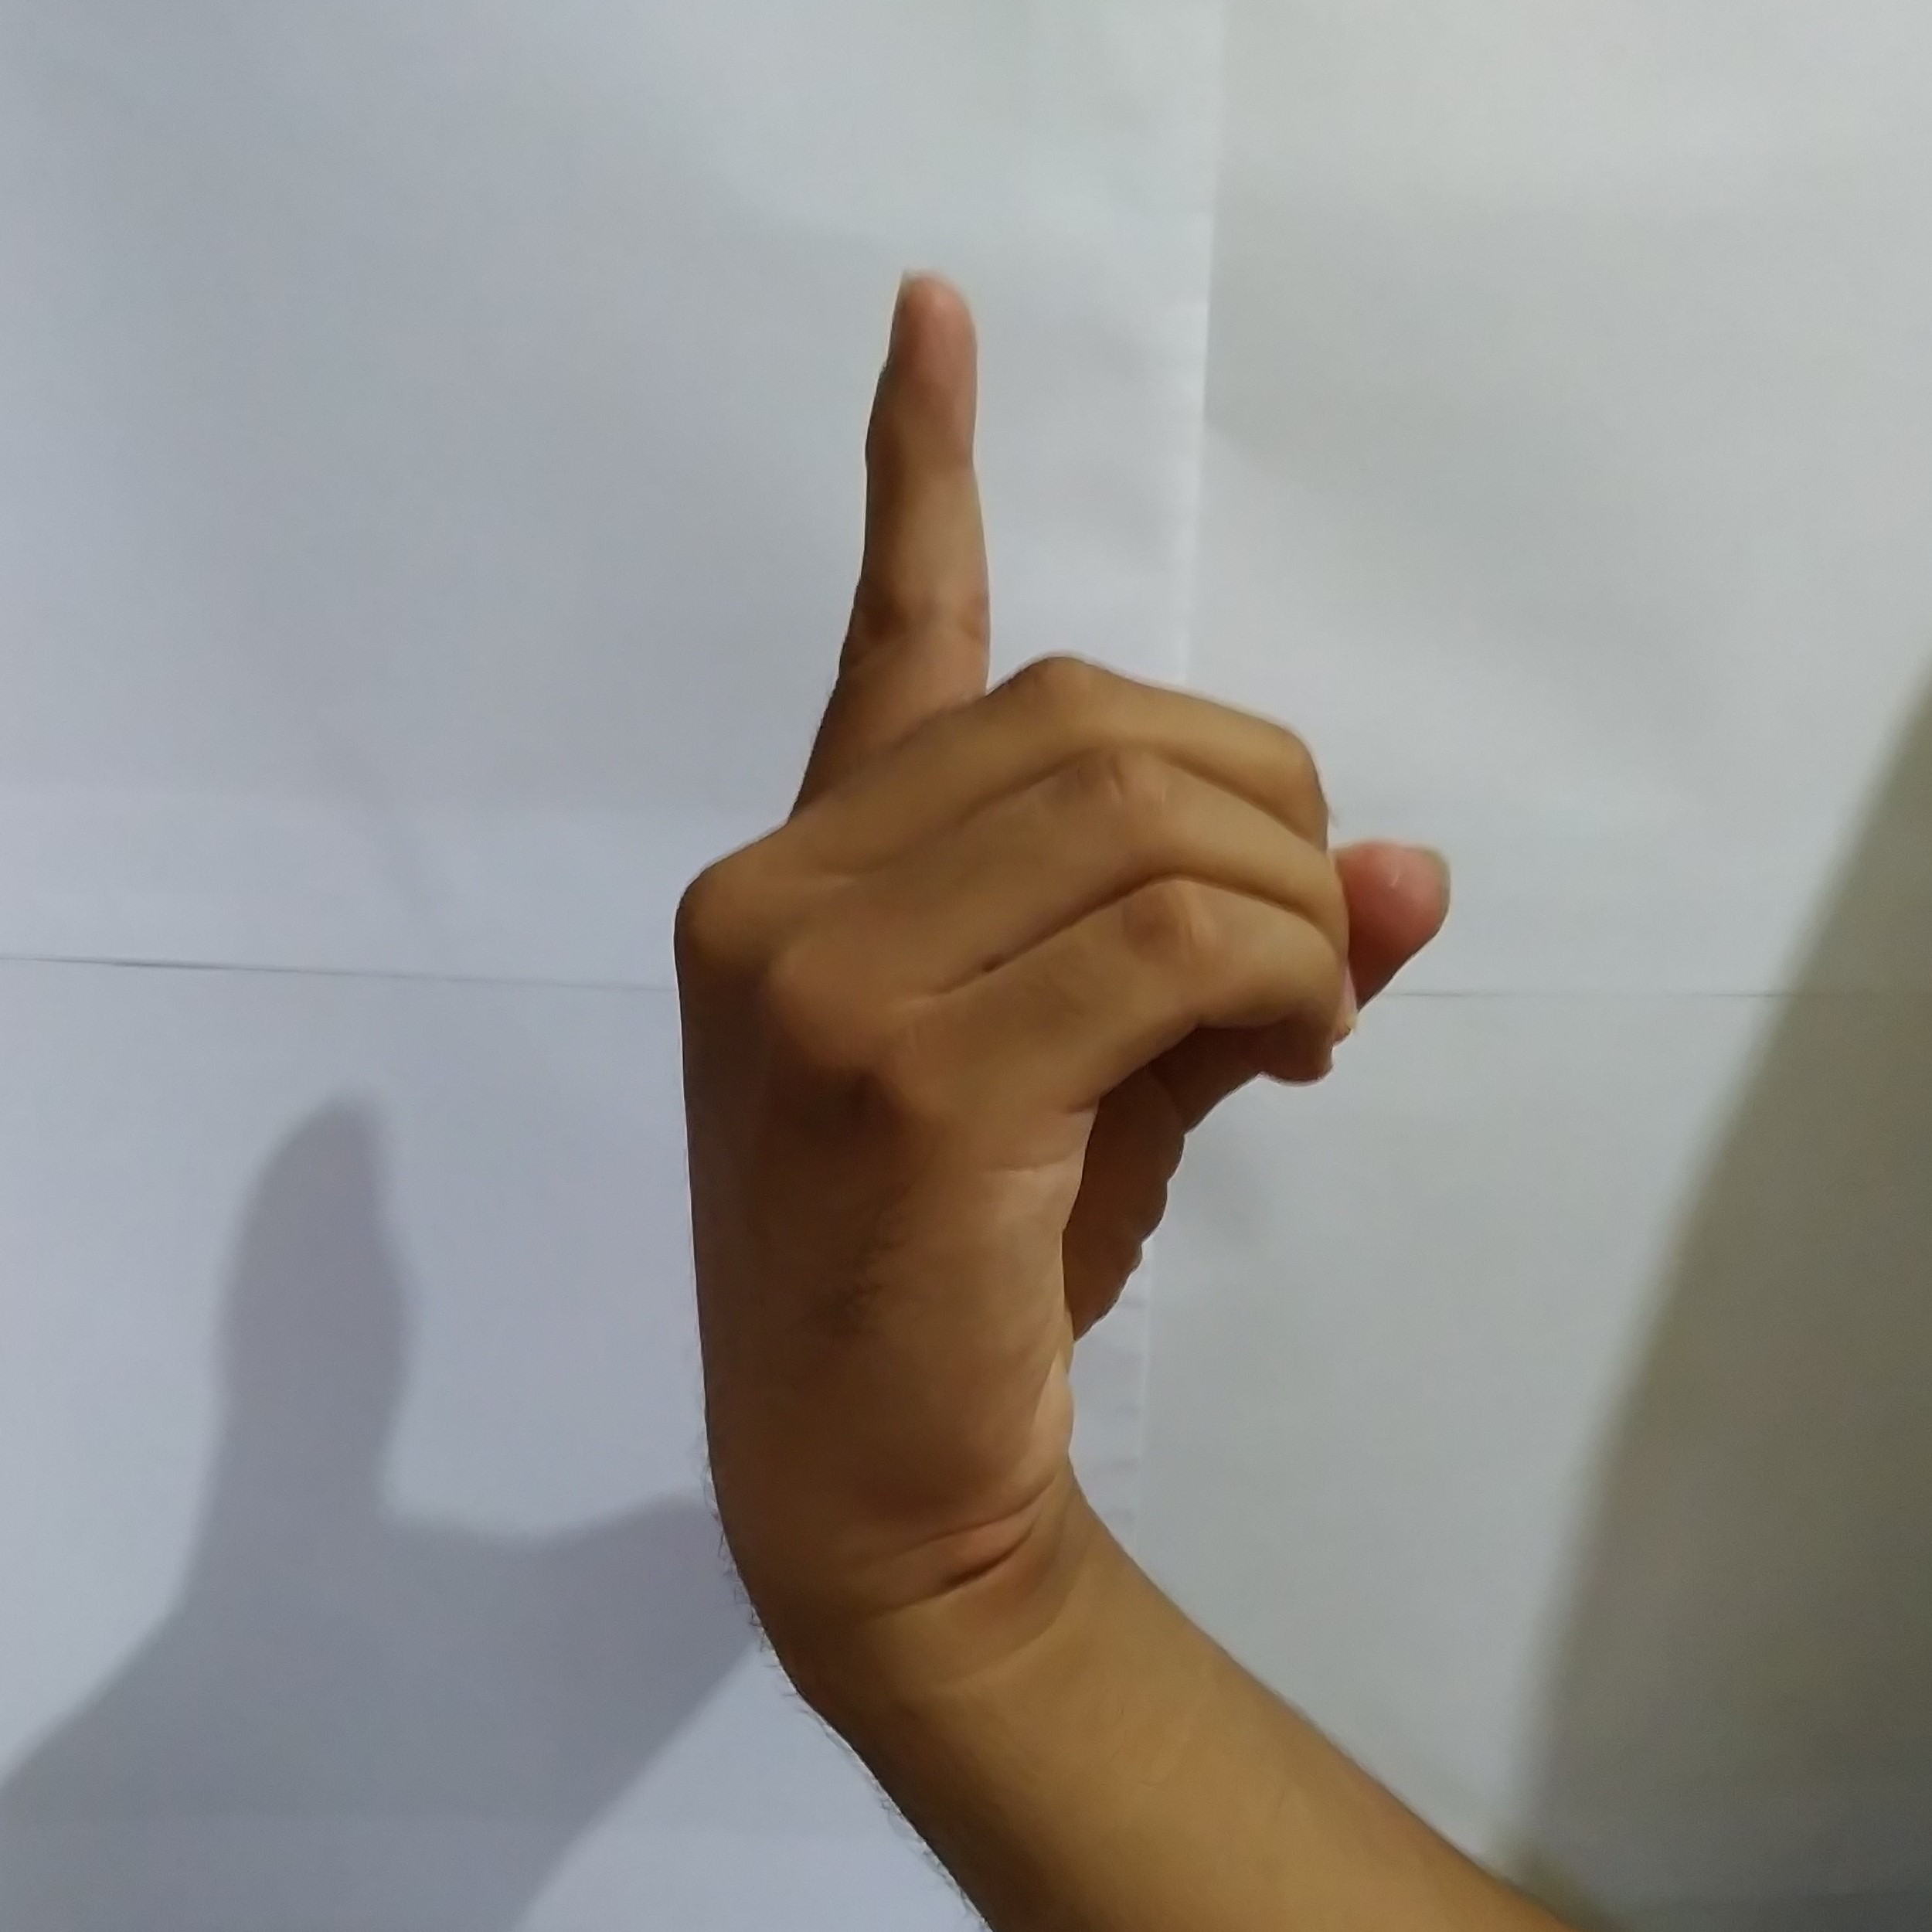D: (640, 239, 1476, 1477)
